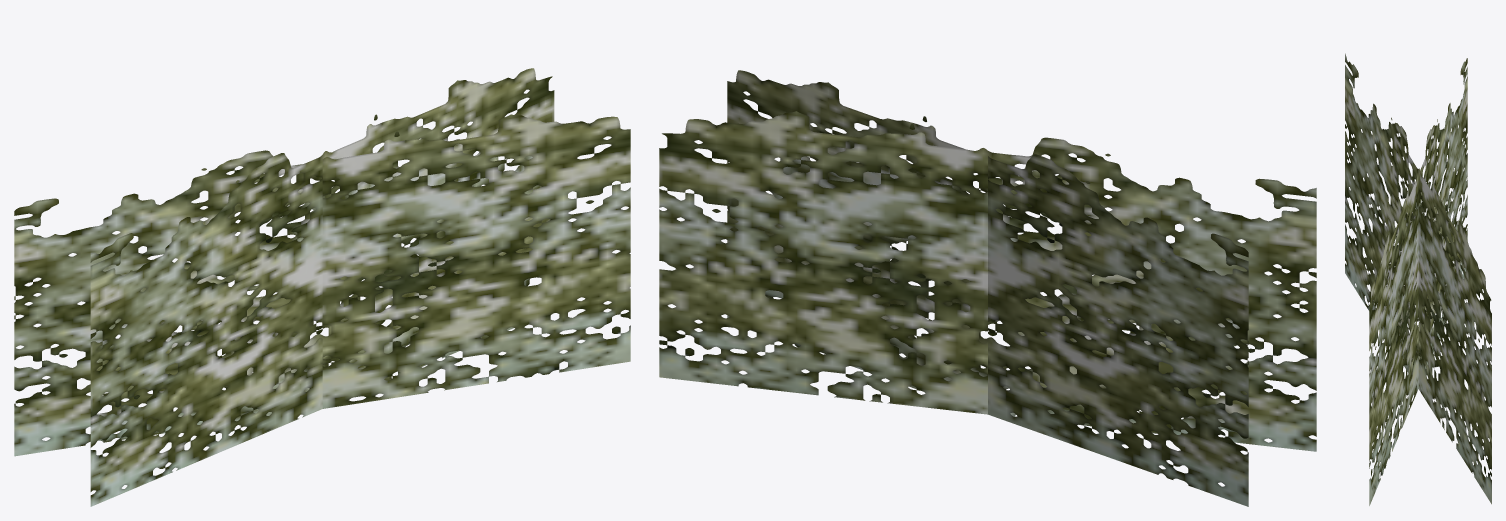
File: bush_long_overgrown_winter.fbx
3 views of the same model, side by side, from view 1: azimuth 30°, elevation 25°; view 2: azimuth 150°, elevation 25°; view 3: azimuth 270°, elevation 25° (orthographic). The views are drawn at different scales.
Parts seen in each view (by area): view 1: bush_long_overgrown_winter; view 2: bush_long_overgrown_winter; view 3: bush_long_overgrown_winter.
Boxes of the visible parts, bbox=[...] form: bush_long_overgrown_winter: bbox=[14, 68, 630, 506]; bush_long_overgrown_winter: bbox=[659, 70, 1316, 506]; bush_long_overgrown_winter: bbox=[1345, 53, 1491, 505].
Bounding box in the file's own units: 209 × 106 × 54.93.
Materials: 1 (1 with a texture image).
